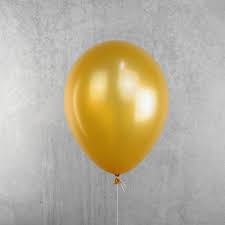Balloon: (64, 41, 170, 175)
